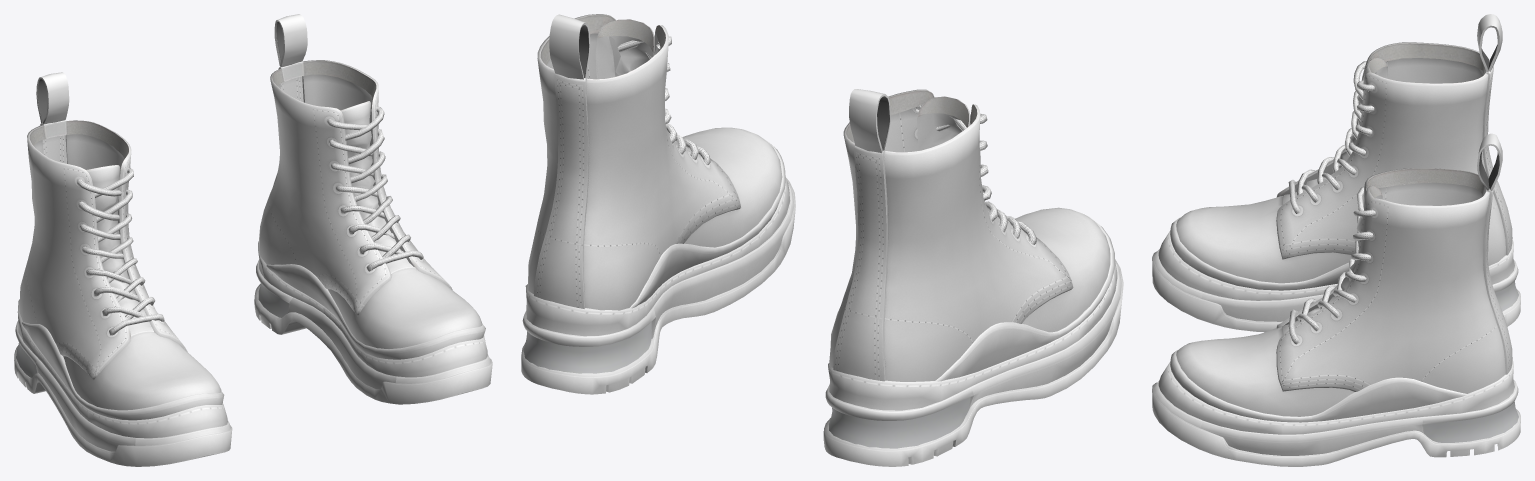
Rendered from NFT_BOOTS_OP1.glb.
3 views of the same model, side by side, from view 1: azimuth 30°, elevation 25°; view 2: azimuth 150°, elevation 25°; view 3: azimuth 270°, elevation 25° (orthographic). The views are drawn at different scales.
Visible parts, largest first — view 1: OP1_BASE_01, OP1_BASE_02, OP1_OUTSOLE_04, OP1_BASE_03, OP1_OUTSOLE_02, OP1_OUTSOLE_01, OP1_OUTSOLE_03, OP1_BASE_05, OP1_OUTSOLE_05, OP1_BASE_04; view 2: OP1_BASE_01, OP1_BASE_02, OP1_BASE_04, OP1_OUTSOLE_02, OP1_OUTSOLE_03, OP1_OUTSOLE_04, OP1_OUTSOLE_05, OP1_OUTSOLE_01, OP1_BASE_05, OP1_BASE_03; view 3: OP1_BASE_01, OP1_BASE_02, OP1_OUTSOLE_02, OP1_OUTSOLE_03, OP1_OUTSOLE_04, OP1_OUTSOLE_01, OP1_BASE_03, OP1_OUTSOLE_05, OP1_BASE_04, OP1_BASE_05.
Part boxes in pixels (x1,y1,x2,y2): OP1_BASE_01: (19,60,452,379); OP1_BASE_02: (63,101,482,410); OP1_OUTSOLE_04: (14,283,492,466); OP1_BASE_03: (77,106,423,335); OP1_OUTSOLE_02: (17,241,487,438); OP1_OUTSOLE_01: (22,264,485,420); OP1_OUTSOLE_03: (15,259,491,451); OP1_BASE_05: (36,14,307,124); OP1_OUTSOLE_05: (16,109,414,377); OP1_BASE_04: (40,61,304,186); OP1_BASE_01: (528,14,1073,381); OP1_BASE_02: (595,19,1110,351); OP1_BASE_04: (534,73,887,381); OP1_OUTSOLE_02: (525,177,1117,410); OP1_OUTSOLE_03: (522,181,1121,420); OP1_OUTSOLE_04: (521,178,1123,466); OP1_OUTSOLE_05: (523,31,971,448); OP1_OUTSOLE_01: (630,136,1114,381); OP1_BASE_05: (549,14,890,153); OP1_BASE_03: (617,36,1036,244); OP1_BASE_01: (1276,42,1505,393); OP1_BASE_02: (1176,58,1387,418); OP1_OUTSOLE_02: (1158,230,1514,434); OP1_OUTSOLE_03: (1153,249,1518,455); OP1_OUTSOLE_04: (1152,251,1520,466); OP1_OUTSOLE_01: (1170,217,1466,422); OP1_BASE_03: (1288,61,1375,344); OP1_OUTSOLE_05: (1283,64,1518,442); OP1_BASE_04: (1482,59,1512,374); OP1_BASE_05: (1477,14,1502,190).
Bounding box in the file's own units: 44.68 × 32.82 × 36.94.
Materials: 1 (1 with a texture image).
